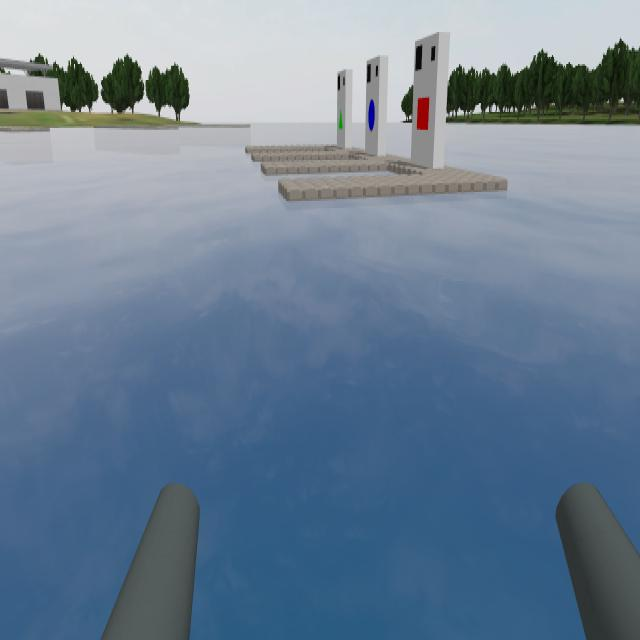dock: (416, 35, 448, 160), (365, 54, 389, 148), (337, 68, 353, 148)
